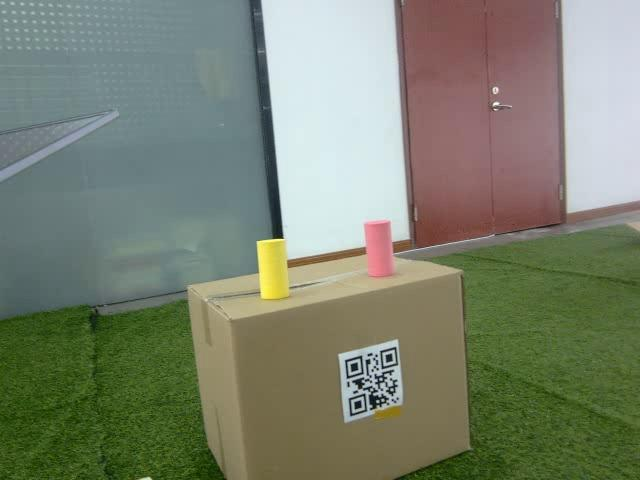red_cylinder: (364, 219, 394, 277)
yellow_cylinder: (256, 238, 290, 300)
